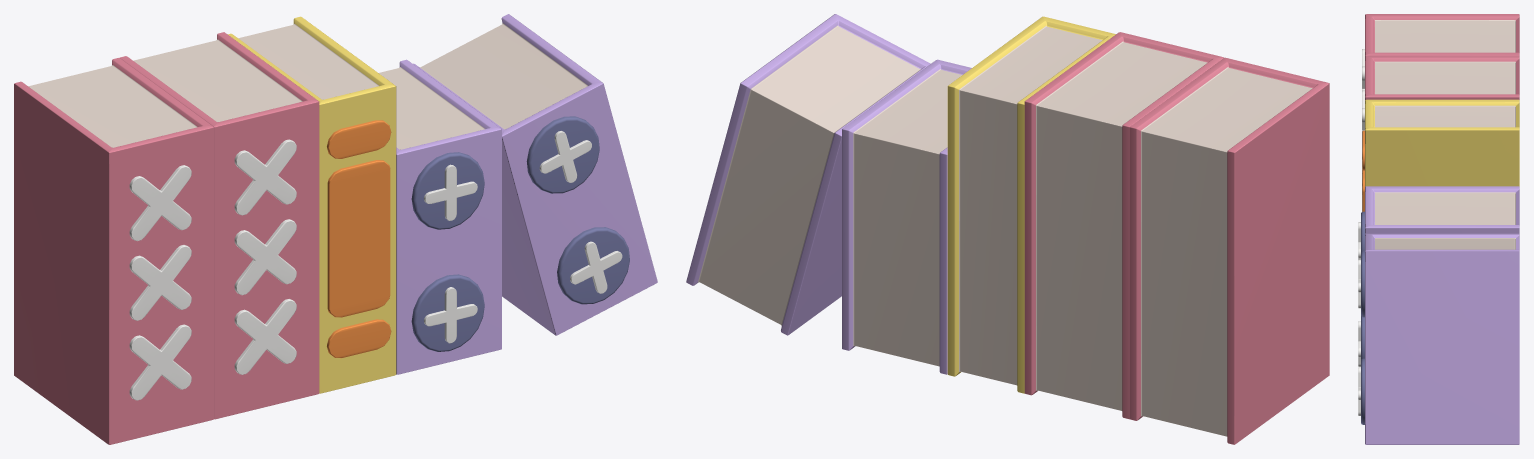
File: Book_4.glb
The picture shows the model from 3 angles, left to right: view 1: azimuth 30°, elevation 25°; view 2: azimuth 150°, elevation 25°; view 3: azimuth 270°, elevation 25°; orthographic projection. The views are drawn at different scales.
Visible parts, largest first — view 1: Books_2; view 2: Books_2; view 3: Books_2.
Part boxes in pixels (left/top/right/bottom): Books_2: left=14, top=14, right=657, bottom=444; Books_2: left=686, top=14, right=1329, bottom=444; Books_2: left=1358, top=14, right=1519, bottom=444.
Bounding box in the file's own units: 0.7213 × 0.3677 × 0.2266.
1 material, 1 textured.
